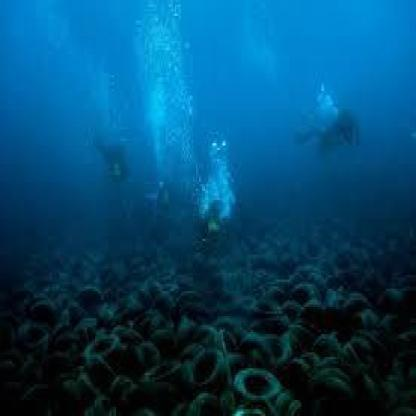tire: (69, 330, 127, 380), (223, 359, 280, 405), (184, 344, 234, 386)
